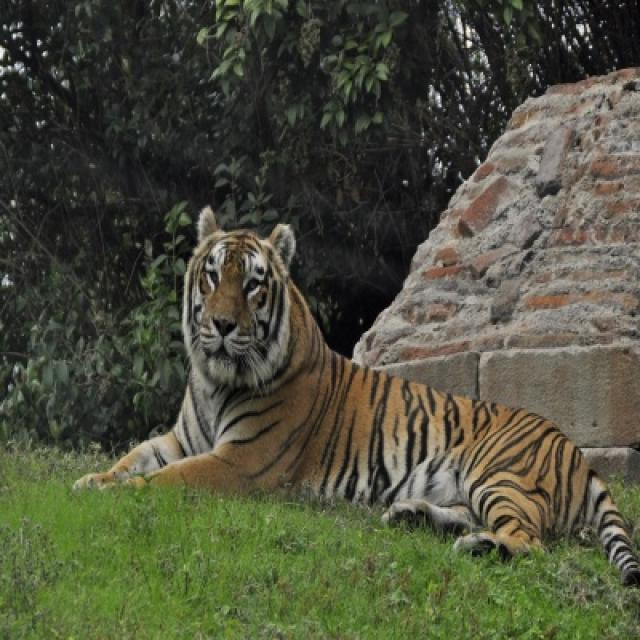Tiger: (74, 211, 634, 582)
